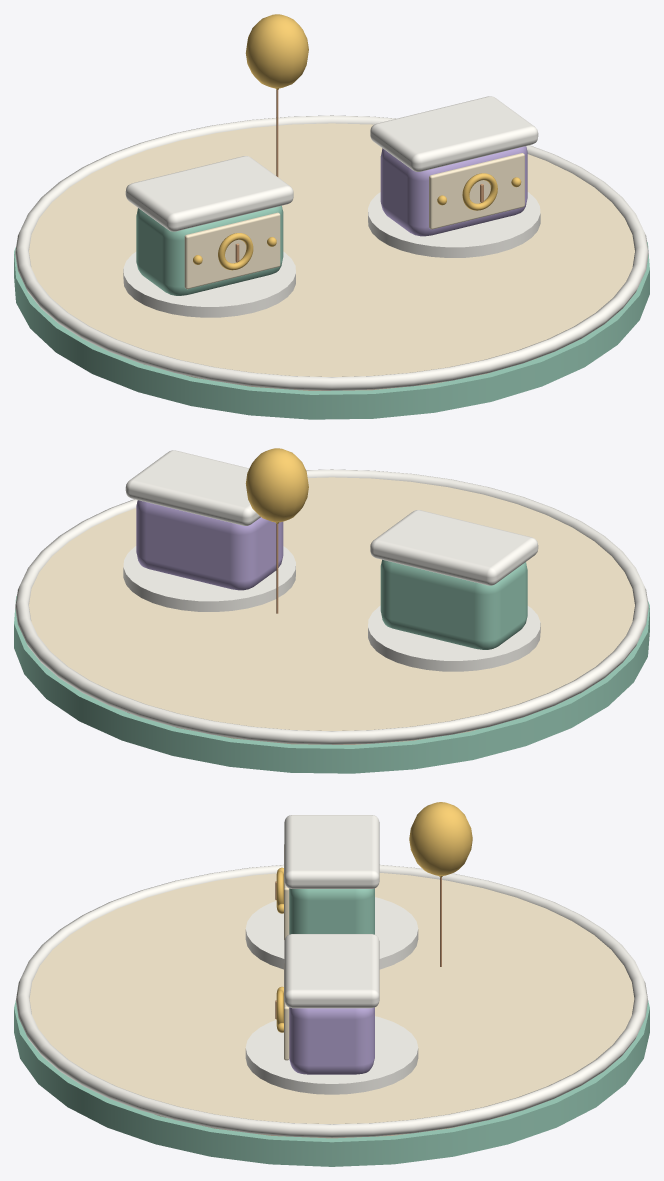
File: battle.glb
The picture shows the model from 3 angles, top to bottom: view 1: azimuth 30°, elevation 25°; view 2: azimuth 150°, elevation 25°; view 3: azimuth 270°, elevation 25°; orthographic projection.
Parts seen in each view (by area): view 1: Island, carnival_battle, VaultA, VaultB, VaultALid, VaultBLid; view 2: Island, carnival_battle, VaultA, VaultB, VaultALid, VaultBLid; view 3: Island, carnival_battle, VaultBLid, VaultALid, VaultB, VaultA.
Boxes of the visible parts, bbox=[...] form: Island: bbox=[14, 115, 649, 419]; carnival_battle: bbox=[123, 14, 540, 317]; VaultA: bbox=[136, 205, 283, 295]; VaultB: bbox=[380, 146, 527, 236]; VaultALid: bbox=[125, 156, 293, 231]; VaultBLid: bbox=[370, 96, 538, 171]; Island: bbox=[14, 469, 649, 773]; carnival_battle: bbox=[123, 448, 540, 671]; VaultA: bbox=[380, 559, 527, 649]; VaultB: bbox=[136, 500, 283, 590]; VaultALid: bbox=[370, 510, 538, 585]; VaultBLid: bbox=[125, 450, 260, 525]; Island: bbox=[14, 865, 649, 1166]; carnival_battle: bbox=[245, 802, 472, 1094]; VaultBLid: bbox=[284, 934, 379, 1008]; VaultALid: bbox=[284, 815, 379, 888]; VaultB: bbox=[275, 963, 374, 1074]; VaultA: bbox=[275, 844, 374, 940].
Bounding box in the file's own units: 7 × 2.77 × 7.
